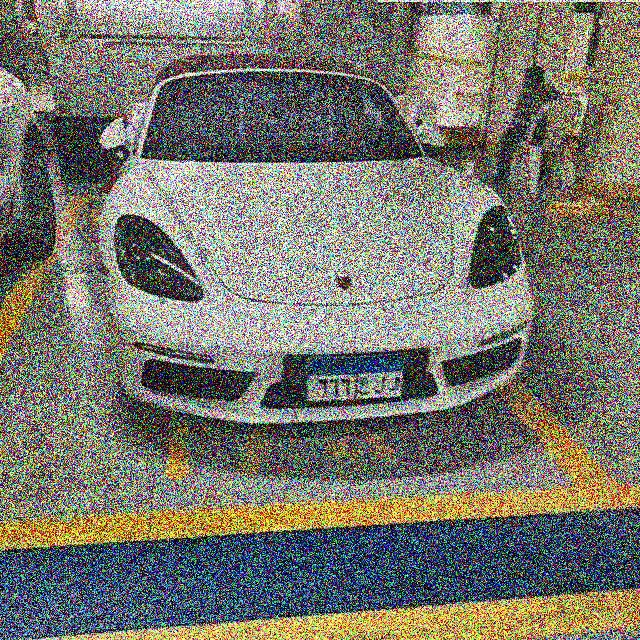License Plate: (304, 350, 408, 404)
